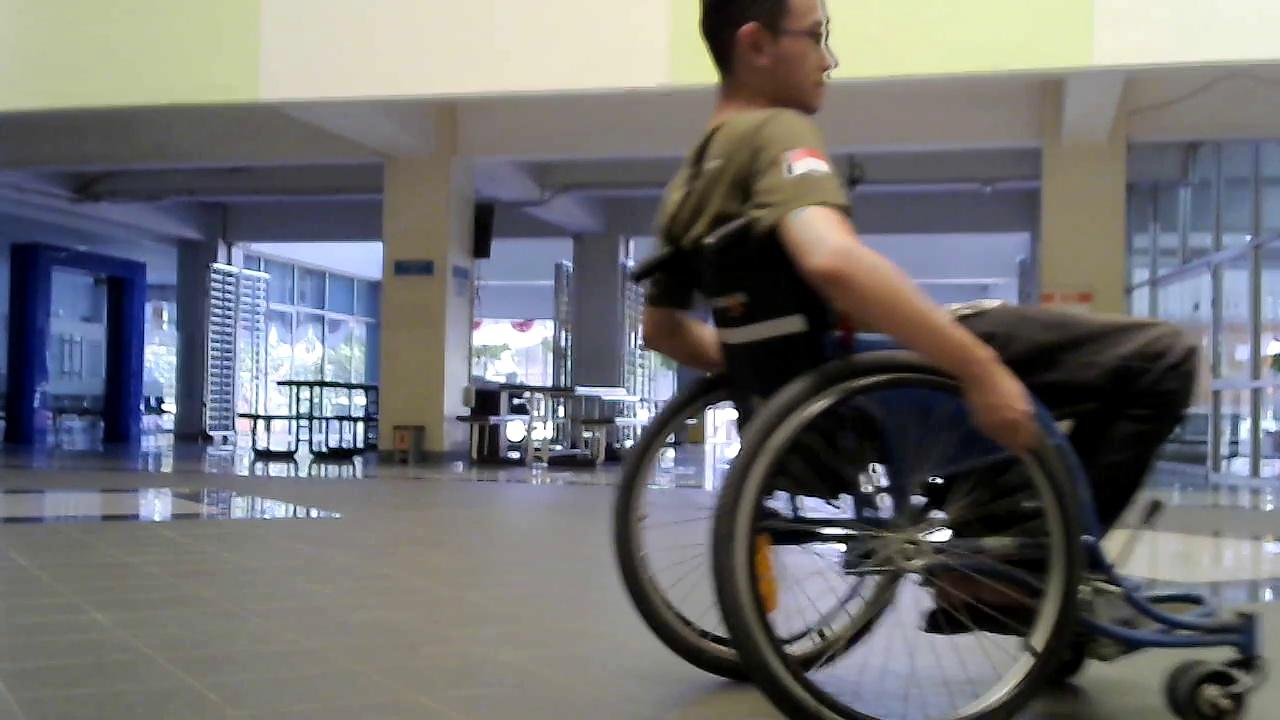person: (634, 2, 1077, 455)
wheelchair: (592, 210, 1264, 720)
